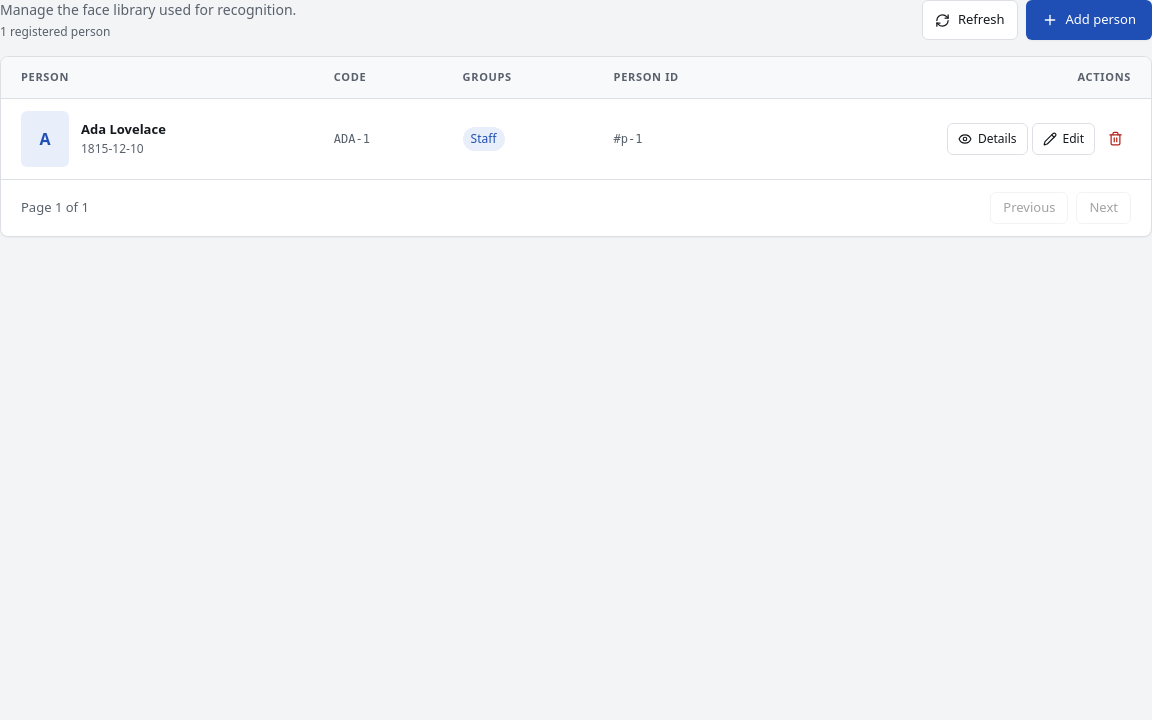
it: PeopleView › renders server data and opens a profile with keyboard-dismissable details
Expected: the text "Ada Lovelace" is shown, [81,120,166,139]
Expected: the text "Staff" is shown, [463,126,504,150]
Click the button "Details".
click(987, 138)  # box [947,122,1028,154]
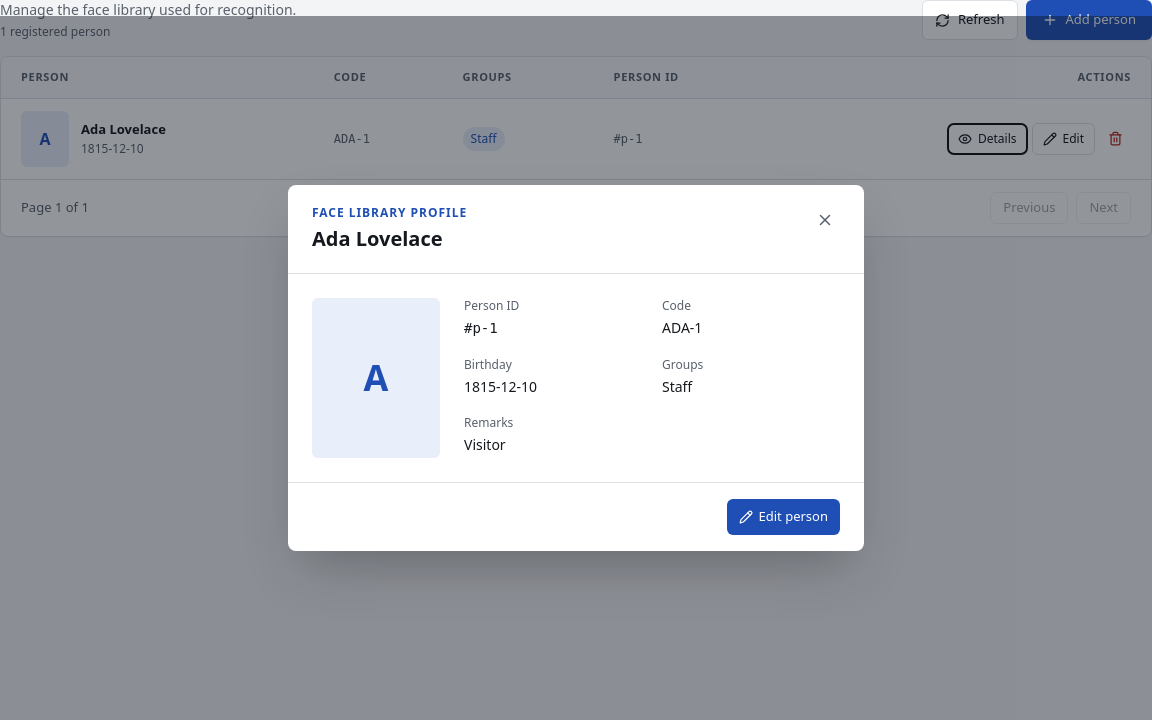
Result: the dialog shows "Face library profile" at [312,204,467,221]
Press Escape
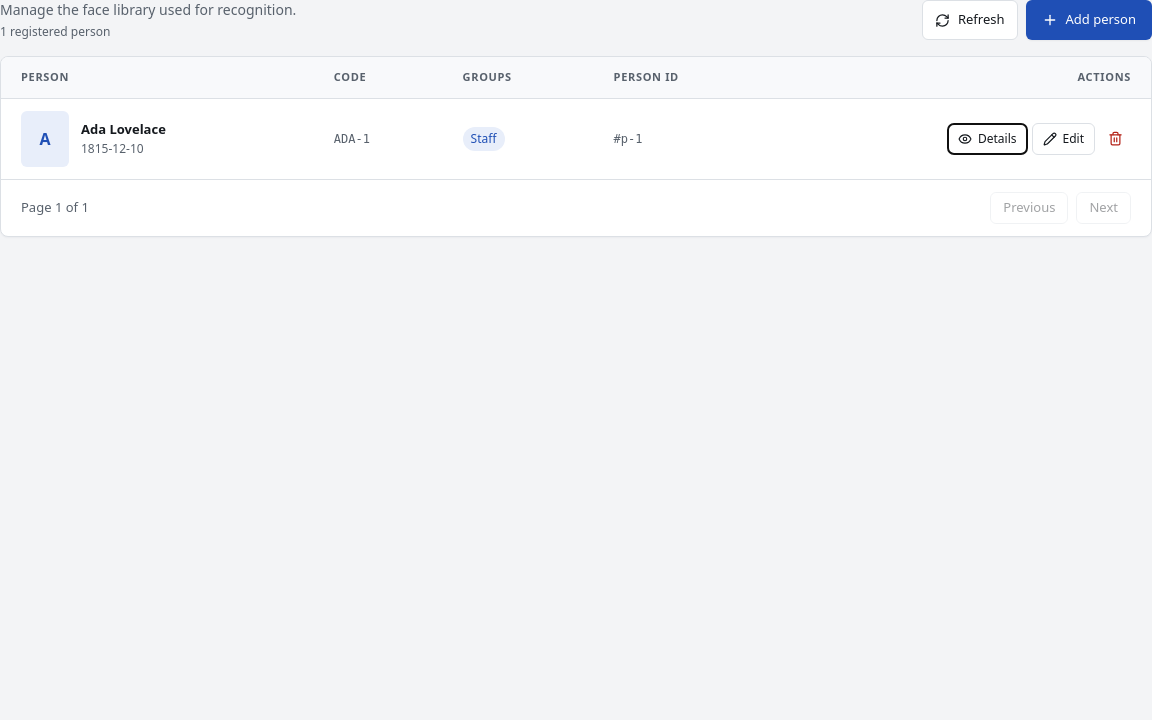
Result: the dialog is gone
